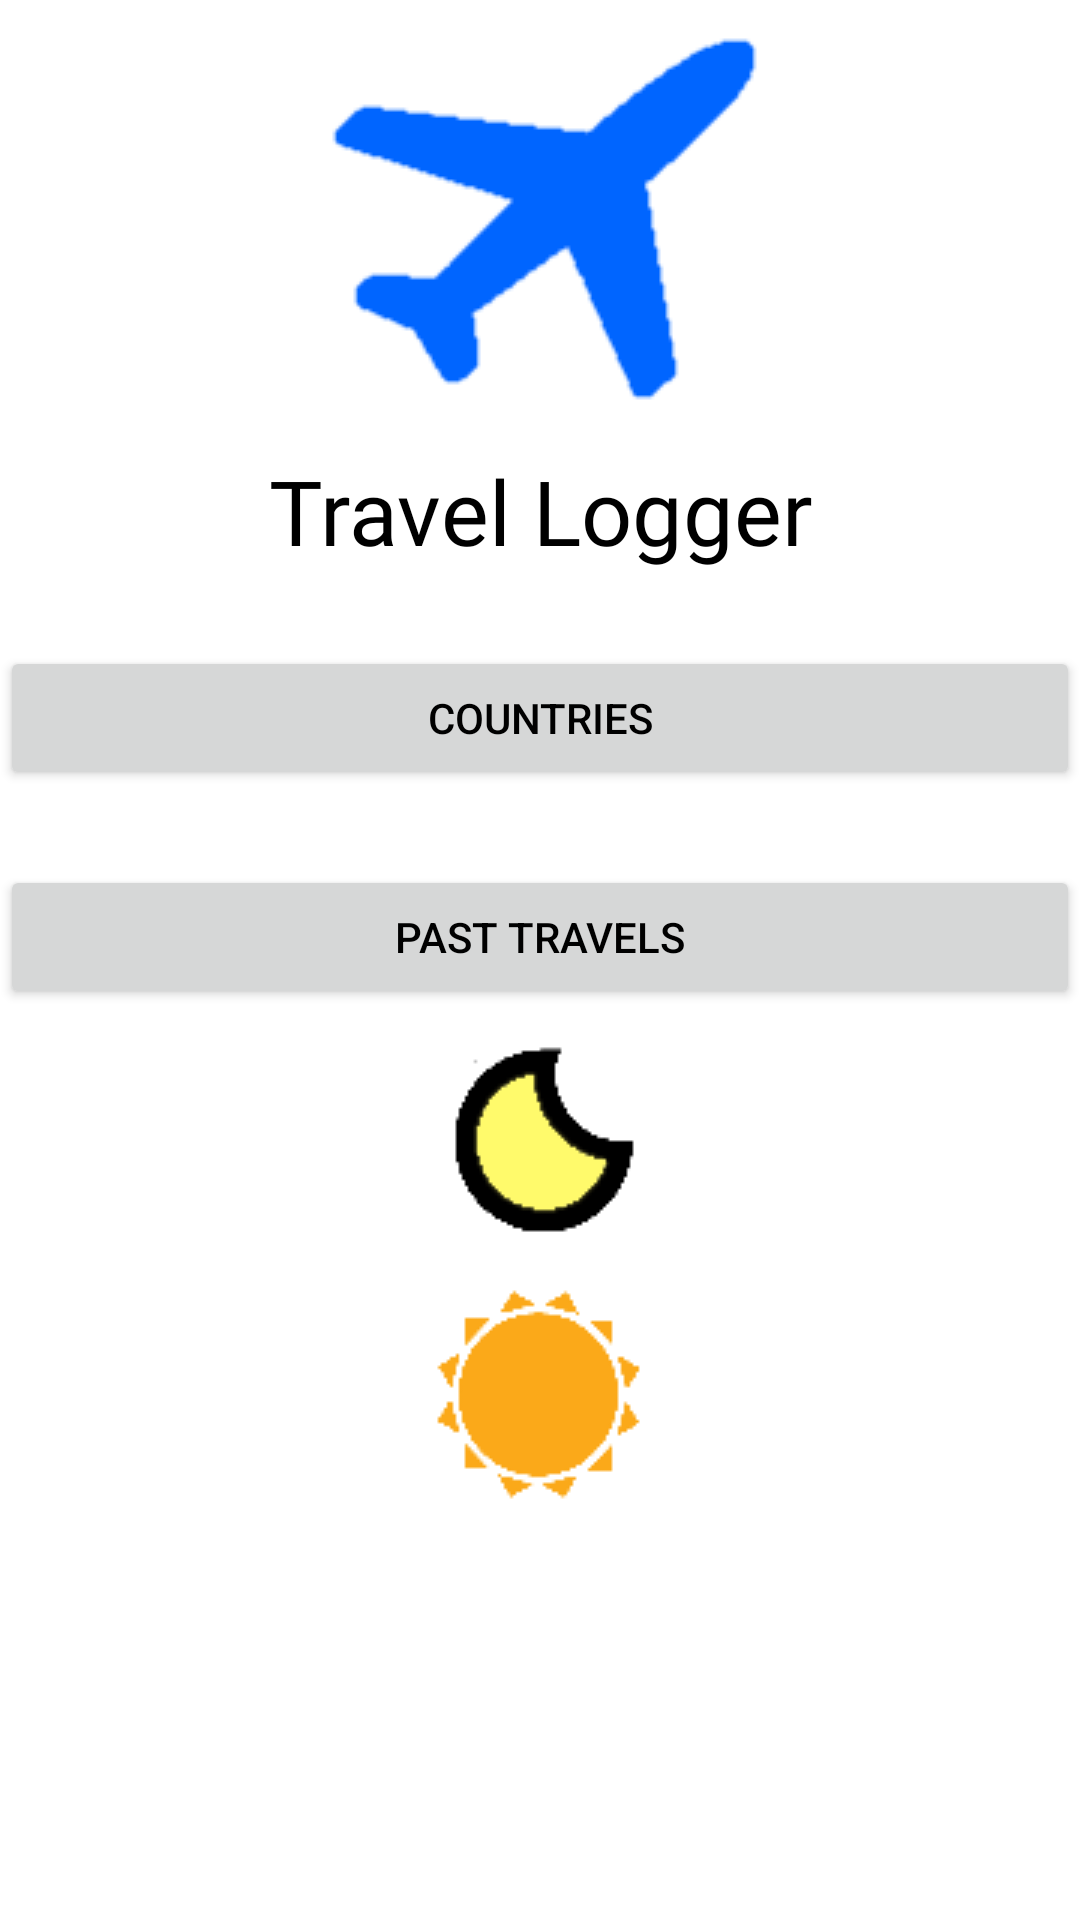

Screen size 1080x1920. Icon name, then its center in pixels as [x,y]:
moon: [544,1139]
sun: [538,1394]
